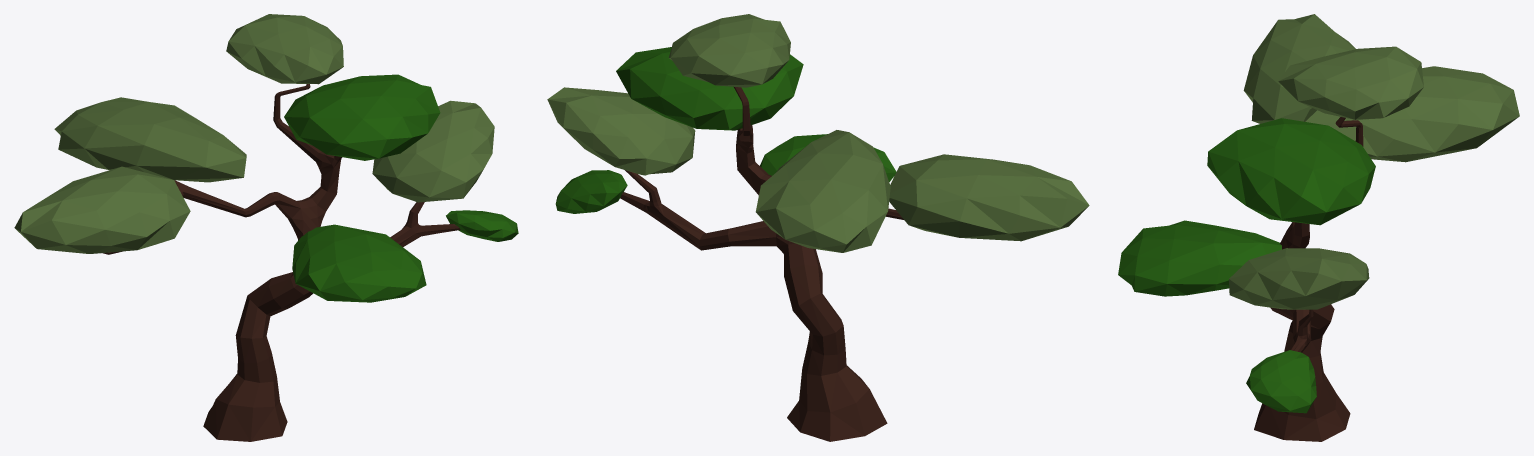
File: Tree_4 Asia.fbx
The picture shows the model from 3 angles, left to right: view 1: azimuth 30°, elevation 25°; view 2: azimuth 150°, elevation 25°; view 3: azimuth 270°, elevation 25°; orthographic projection. The views are drawn at different scales.
Parts seen in each view (by area): view 1: Tree_4; view 2: Tree_4; view 3: Tree_4.
Boxes of the visible parts, x1,y1,x2,y2 form: Tree_4: (14, 14, 518, 441); Tree_4: (547, 14, 1089, 441); Tree_4: (1118, 14, 1519, 441).
Size of the model in its own units: 5.91 by 4.17 by 3.77.
